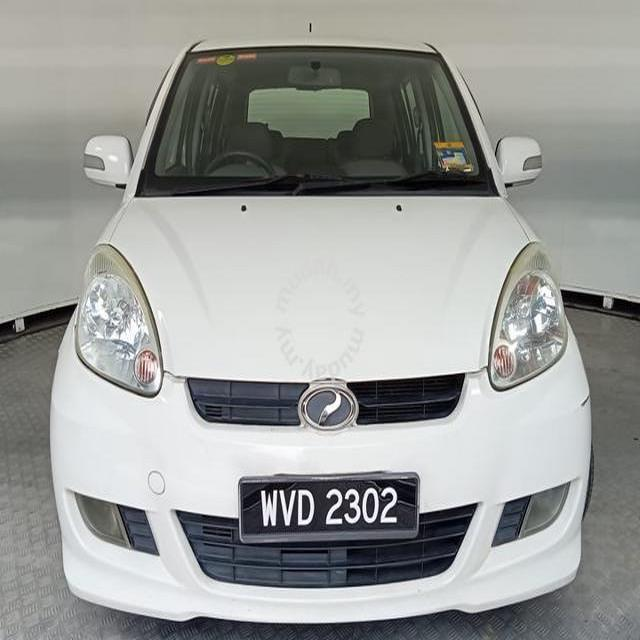License_Plate: (230, 477, 432, 546)
car: (46, 22, 606, 634)
